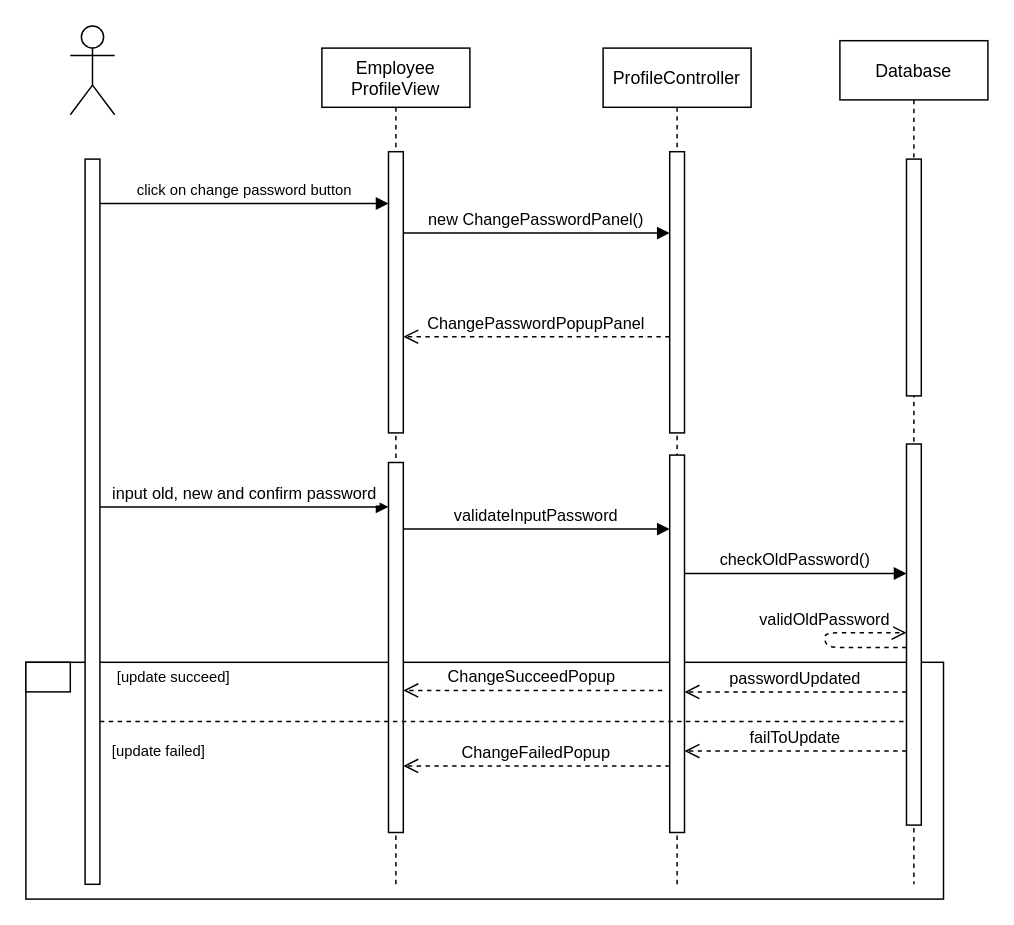
This 1014x925 diagram has some shape labels left out. Here are the shapes that lost their labels. From the top down, the centre of each, then its label:
At point (92, 69): "Employee".
At point (47, 676): "Alt".
